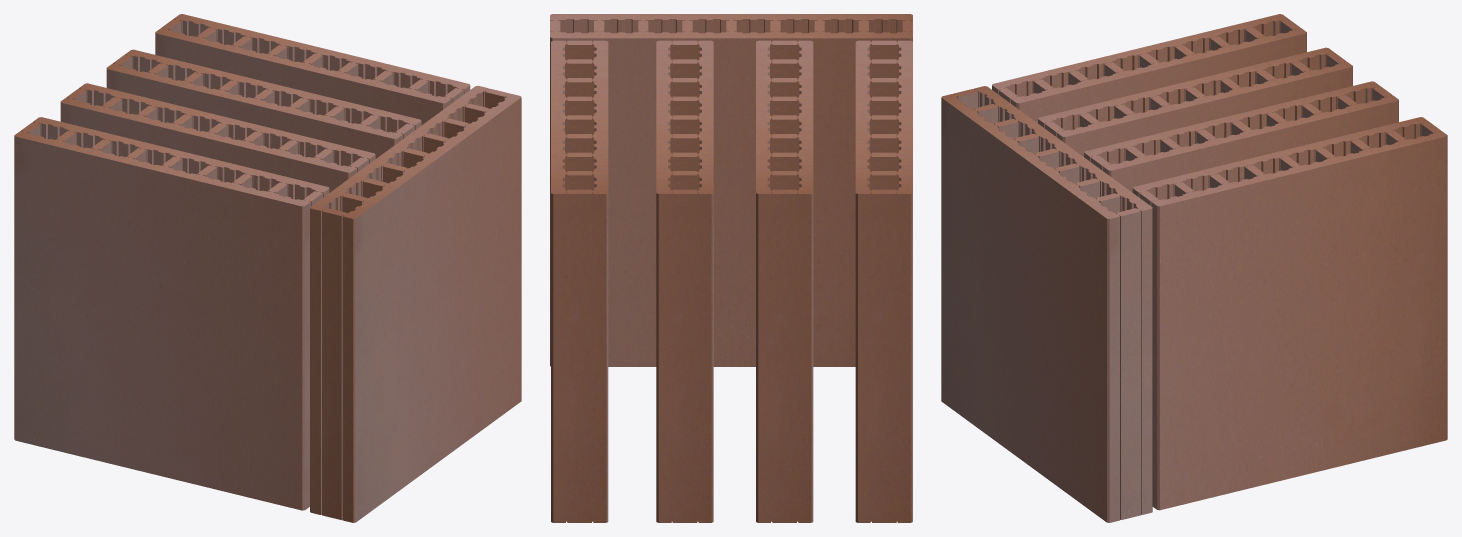
File: PISO_30.dae
3 views of the same model, side by side, from view 1: azimuth 30°, elevation 25°; view 2: azimuth 150°, elevation 25°; view 3: azimuth 270°, elevation 25° (orthographic). The views are drawn at different scales.
Visible parts, largest first — view 1: group_1, group_5, group_2, group_4, group_3; view 2: group_5 (×9), group_1 (×9), group_3 (×9), group_2 (×9), group_4 (×9); view 3: group_2, group_5, group_3, group_1, group_4.
Boxes of the visible parts, x1,y1,x2,y2 form: group_1: (14, 117, 329, 510); group_5: (310, 85, 521, 522); group_2: (155, 14, 470, 124); group_4: (60, 83, 375, 192); group_3: (106, 49, 421, 158); group_5 (×9): (550, 14, 912, 366); group_1 (×9): (855, 40, 912, 522); group_3 (×9): (656, 40, 713, 522); group_2 (×9): (551, 40, 608, 522); group_4 (×9): (756, 40, 813, 522); group_2: (1132, 117, 1447, 510); group_5: (941, 86, 1152, 522); group_3: (1084, 81, 1398, 192); group_1: (992, 14, 1306, 122); group_4: (1038, 47, 1352, 156).
Bounding box in the file's own units: 17.09 × 17.83 × 11.81.
Materials: 1 (1 with a texture image).
